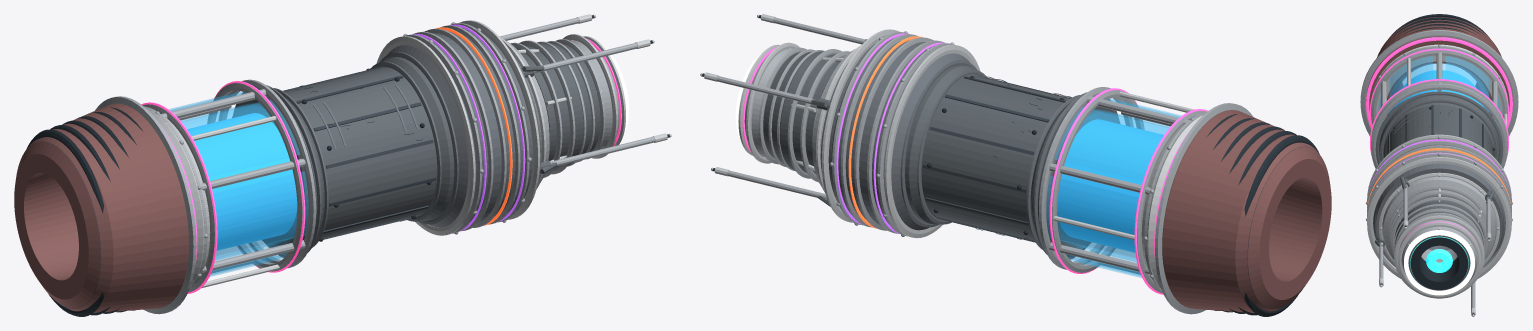
The model's file is REACTOR_EMITTER_REV03.glb.
3 views of the same model, side by side, from view 1: azimuth 30°, elevation 25°; view 2: azimuth 150°, elevation 25°; view 3: azimuth 270°, elevation 25° (orthographic). The views are drawn at different scales.
Visible parts, largest first — view 1: TAIL__bronze, BODY__body, WINDOW__cyan_shell, WINDOW__cyan_core, WINDOW__polished, HEAD__slate, HEAD__polished, NOZZLE__polished, BODY__slate, HEAD__silver, NOZZLE__body, WINDOW__silver (+8 smaller); view 2: TAIL__bronze, BODY__body, WINDOW__cyan_shell, WINDOW__cyan_core, WINDOW__polished, HEAD__slate, HEAD__polished, NOZZLE__polished, HEAD__silver, NOZZLE__body, BODY__slate, WINDOW__silver (+8 smaller); view 3: NOZZLE__polished, WINDOW__polished, BODY__body, NOZZLE__silver, HEAD__polished, TAIL__bronze, HEAD__silver, WINDOW__cyan_shell, HEAD__slate, TAIL__polished, BODY__slate, NOZZLE__soot (+15 smaller).
Boxes of the visible parts, <box> form: TAIL__bronze: <box>14,103,188,313</box>; BODY__body: <box>232,57,454,255</box>; WINDOW__cyan_shell: <box>169,91,308,276</box>; WINDOW__cyan_core: <box>187,113,296,250</box>; WINDOW__polished: <box>143,79,316,292</box>; HEAD__slate: <box>387,29,541,227</box>; HEAD__polished: <box>403,22,531,234</box>; NOZZLE__polished: <box>505,39,619,182</box>; BODY__slate: <box>234,52,458,257</box>; HEAD__silver: <box>376,20,540,235</box>; NOZZLE__body: <box>517,43,600,168</box>; WINDOW__silver: <box>146,108,279,288</box>; TAIL__bronze: <box>1162,110,1331,313</box>; BODY__body: <box>905,65,1120,257</box>; WINDOW__cyan_shell: <box>1046,98,1181,277</box>; WINDOW__cyan_core: <box>1057,119,1163,252</box>; WINDOW__polished: <box>1039,87,1206,293</box>; HEAD__slate: <box>820,38,969,230</box>; HEAD__polished: <box>830,31,954,236</box>; NOZZLE__polished: <box>744,47,854,186</box>; HEAD__silver: <box>819,29,980,238</box>; NOZZLE__body: <box>763,51,839,173</box>; BODY__slate: <box>900,60,1118,259</box>; WINDOW__silver: <box>1053,91,1202,288</box>; NOZZLE__polished: <box>1382,176,1496,290</box>; WINDOW__polished: <box>1369,44,1509,168</box>; BODY__body: <box>1379,95,1499,161</box>; NOZZLE__silver: <box>1379,172,1499,298</box>; HEAD__polished: <box>1366,136,1512,266</box>; TAIL__bronze: <box>1366,17,1512,115</box>; HEAD__silver: <box>1367,134,1511,278</box>; WINDOW__cyan_shell: <box>1378,56,1500,129</box>; HEAD__slate: <box>1373,144,1505,266</box>; TAIL__polished: <box>1360,30,1518,135</box>; BODY__slate: <box>1375,91,1503,164</box>; NOZZLE__soot: <box>1410,237,1468,289</box>.
Size of the model in its own units: 18.48 by 6.14 by 6.14.
